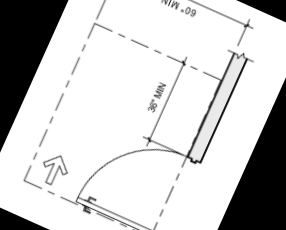door: (73, 120, 191, 230)
